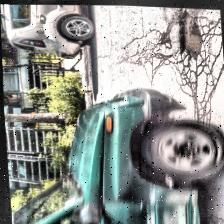pothole: (172, 6, 208, 57)
